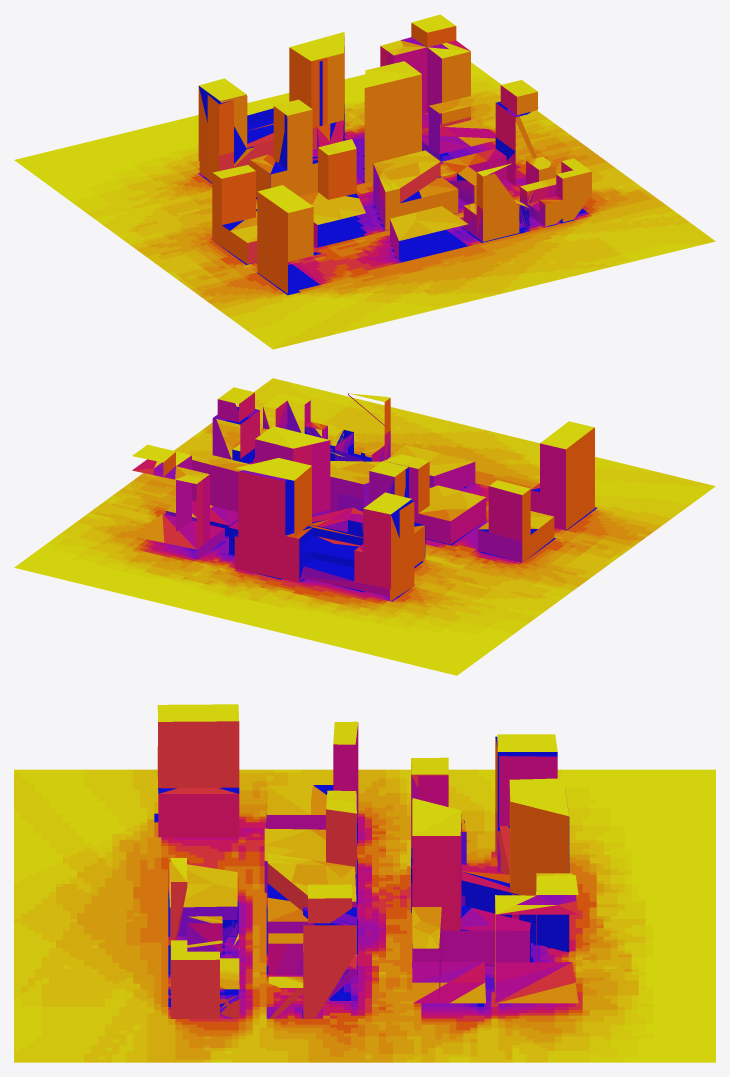
Rendered from sunlight_analysis_wgs84ready.glb.
3 renders of one model, top to bottom at view 1: azimuth 30°, elevation 25°; view 2: azimuth 150°, elevation 25°; view 3: azimuth 270°, elevation 25°, orthographic. The views are drawn at different scales.
Visible parts, largest first — view 1: Mesh: ON_Mesh.m_F[23] has degenerate double precision vertex; view 2: Mesh: ON_Mesh.m_F[23] has degenerate double precision vertex; view 3: Mesh: ON_Mesh.m_F[23] has degenerate double precision vertex.
Part boxes in pixels (x1,y1,x2,y2): Mesh: ON_Mesh.m_F[23] has degenerate double precision vertex: (14,14,715,349); Mesh: ON_Mesh.m_F[23] has degenerate double precision vertex: (14,378,715,675); Mesh: ON_Mesh.m_F[23] has degenerate double precision vertex: (14,704,715,1062).
Bounding box in the file's own units: 425 × 92.17 × 430.
